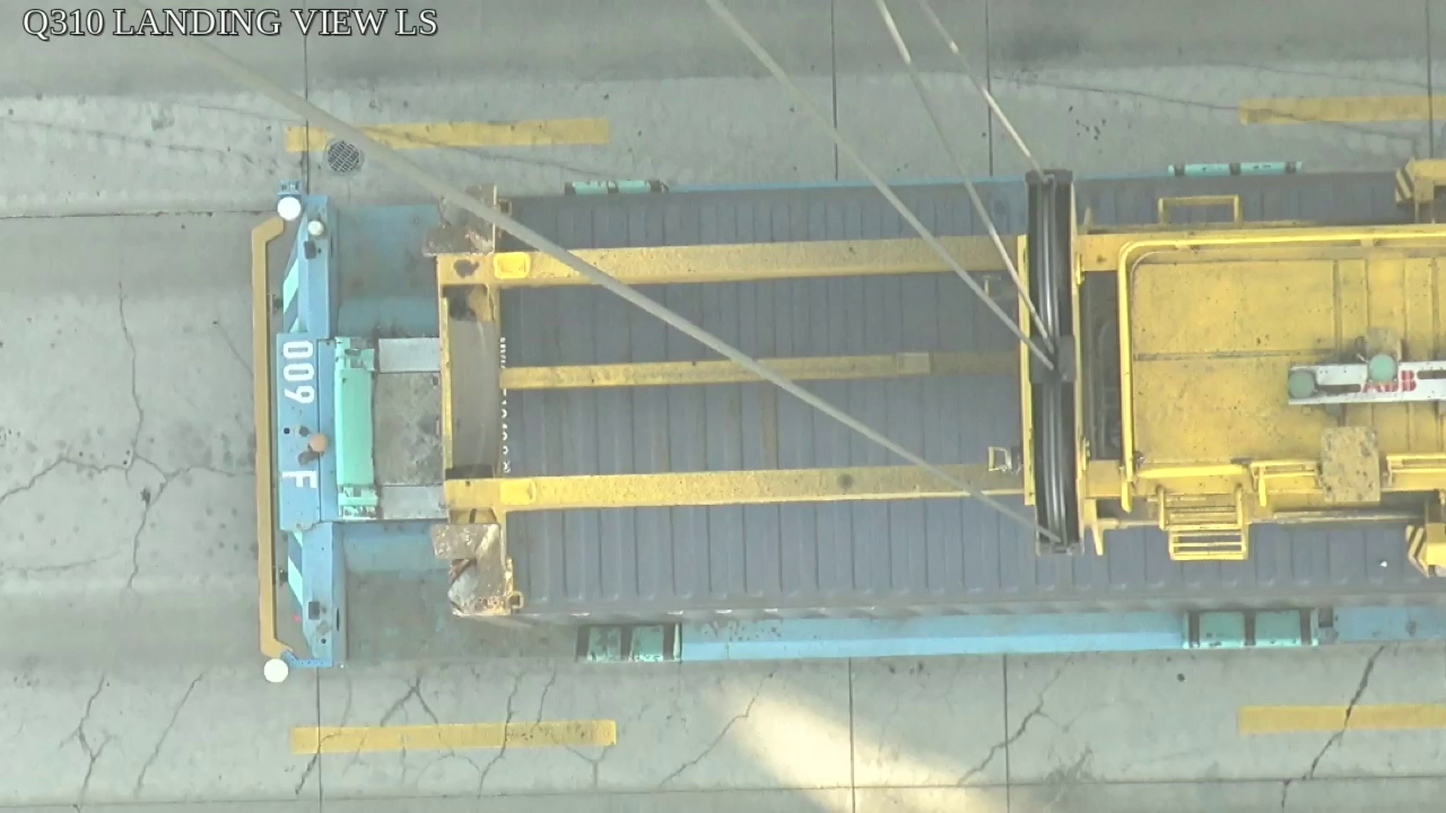aa: (1016, 171, 1092, 555)
